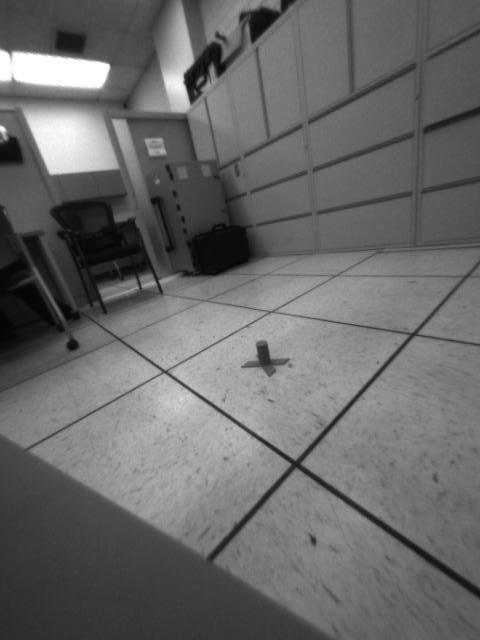X: (241, 339, 290, 377)
